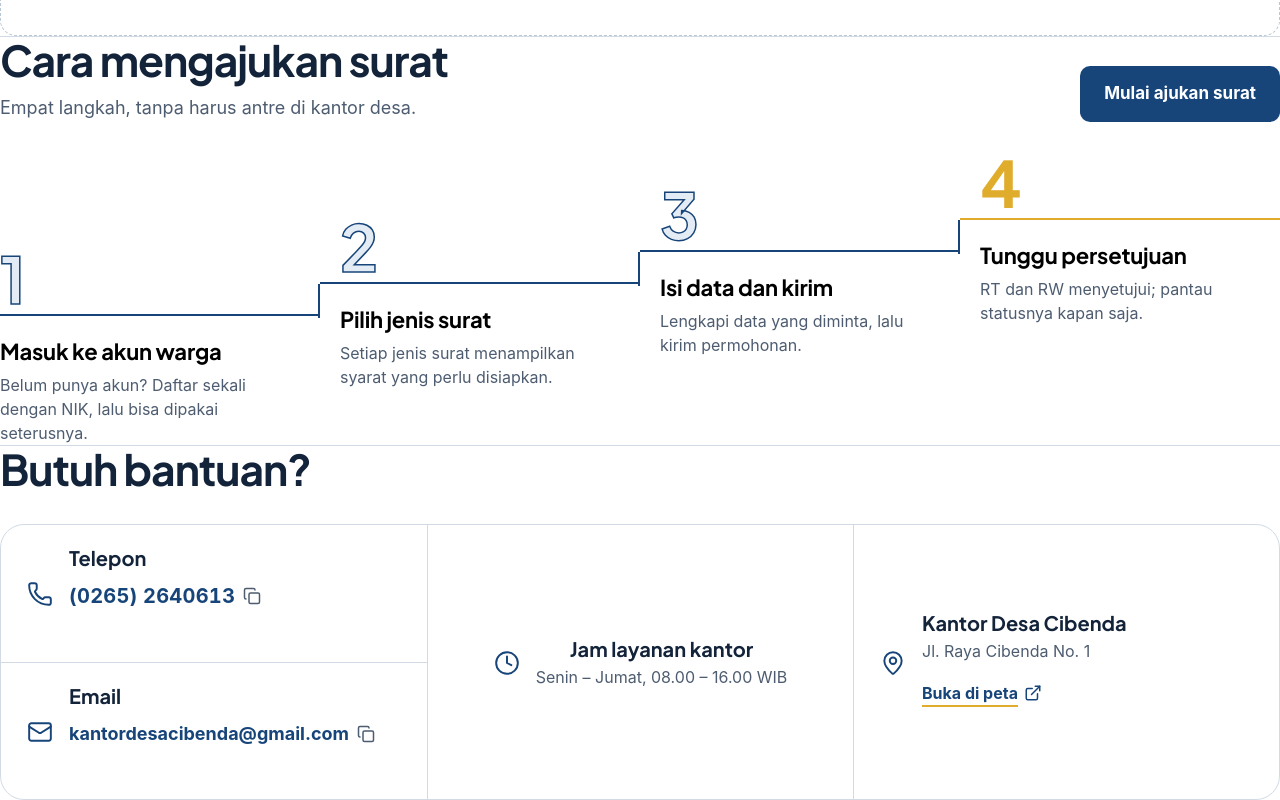
Test: BerandaPage contact section › shows the village email in its own card, also copied on click
(page scrolled)
Click the button with aria-label "Salin email kantordesacibenda@gmail.com". click: (222, 734)
box: top-left (69, 712), bottom-right (375, 756)
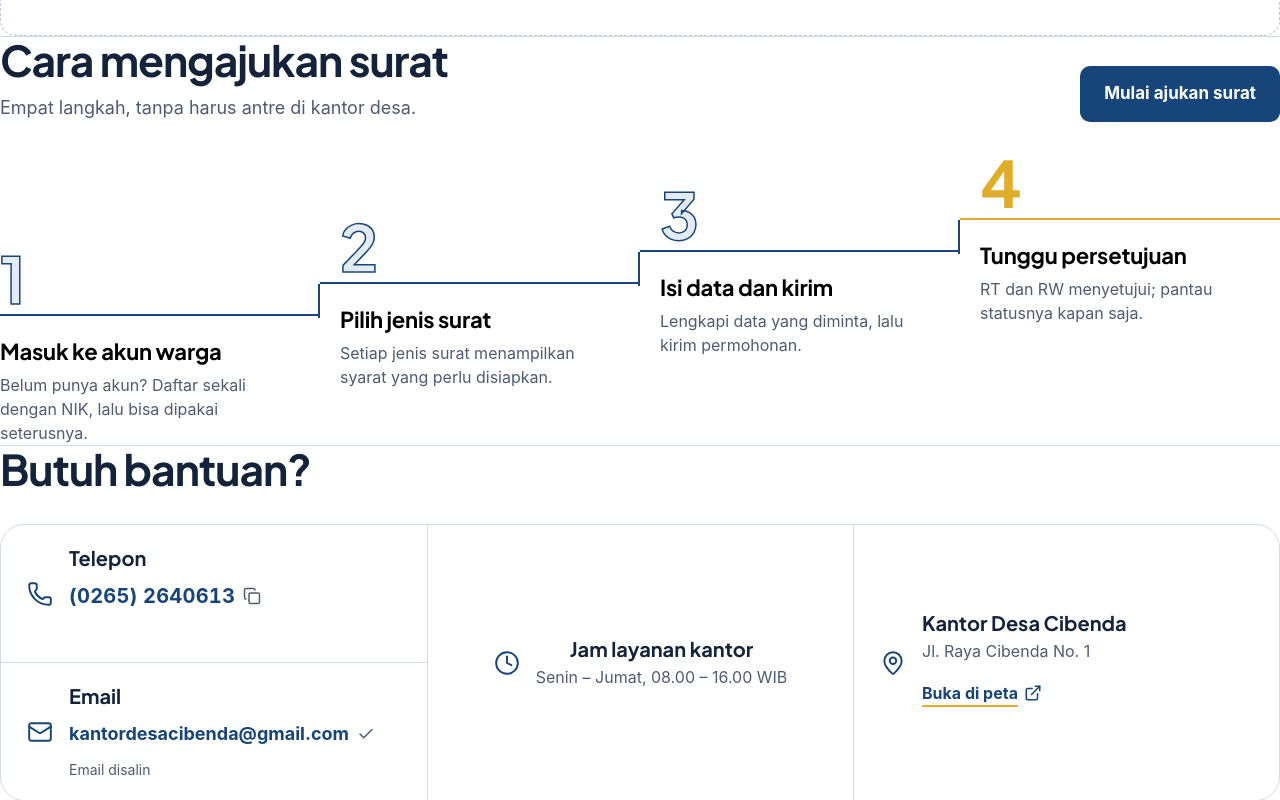
Check: the text "Email disalin" is shown, box top-left (69, 761), bottom-right (150, 778)
